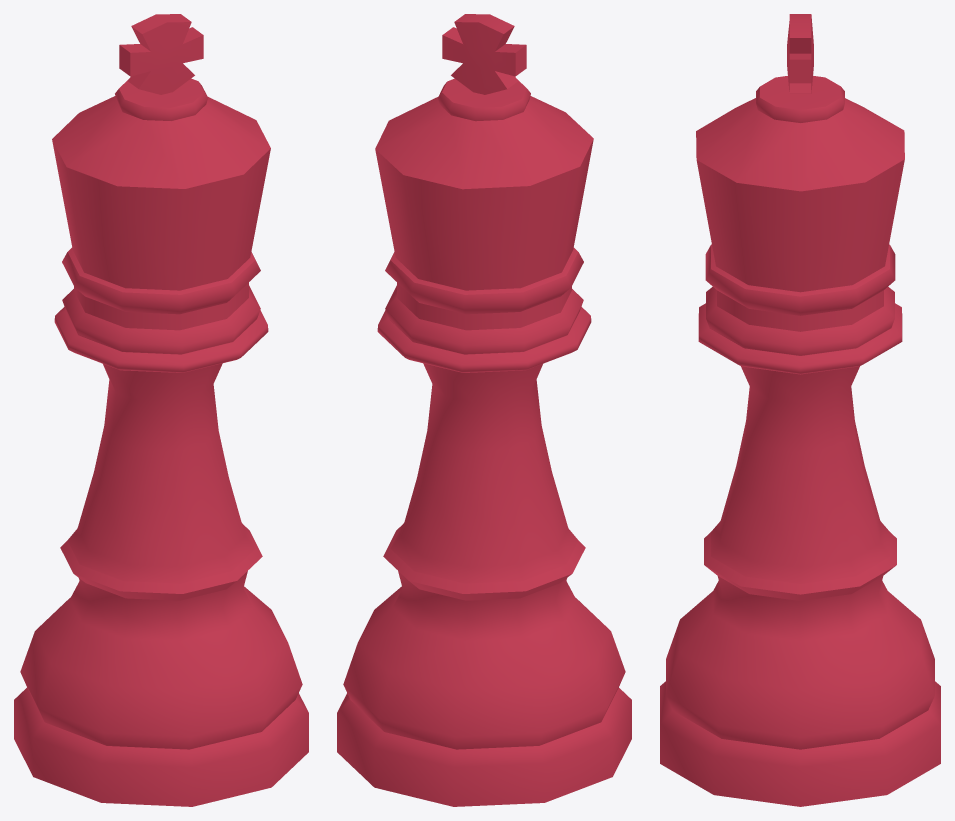
Rendered from item-5-3.glb.
3 renders of one model, left to right at view 1: azimuth 30°, elevation 25°; view 2: azimuth 150°, elevation 25°; view 3: azimuth 270°, elevation 25°, orthographic.
Visible parts, largest first — view 1: BlackKing; view 2: BlackKing; view 3: BlackKing.
Boxes of the visible parts, <box> form: BlackKing: <box>14,14,308,806</box>; BlackKing: <box>337,14,631,806</box>; BlackKing: <box>660,14,940,806</box>.
Size of the model in its own units: 0.0886 by 0.2399 by 0.0843.
